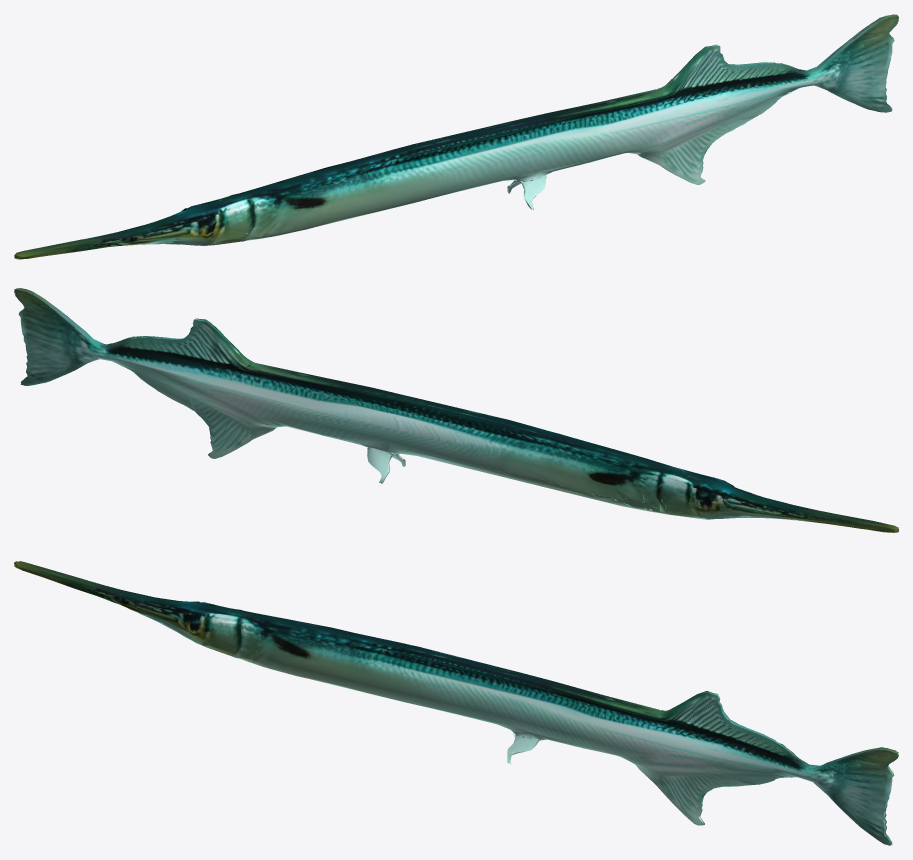
Rendered from needlefish.glb.
3 renders of one model, top to bottom at view 1: azimuth 30°, elevation 25°; view 2: azimuth 150°, elevation 25°; view 3: azimuth 330°, elevation 25°, orthographic.
Parts seen in each view (by area): view 1: node_0; view 2: node_0; view 3: node_0.
Boxes of the visible parts, bbox=[...] form: node_0: bbox=[14, 14, 898, 259]; node_0: bbox=[14, 288, 898, 532]; node_0: bbox=[14, 561, 898, 845].
Bounding box in the file's own units: 1.19 × 0.1743 × 0.0568.
Materials: 1 (1 with a texture image).
